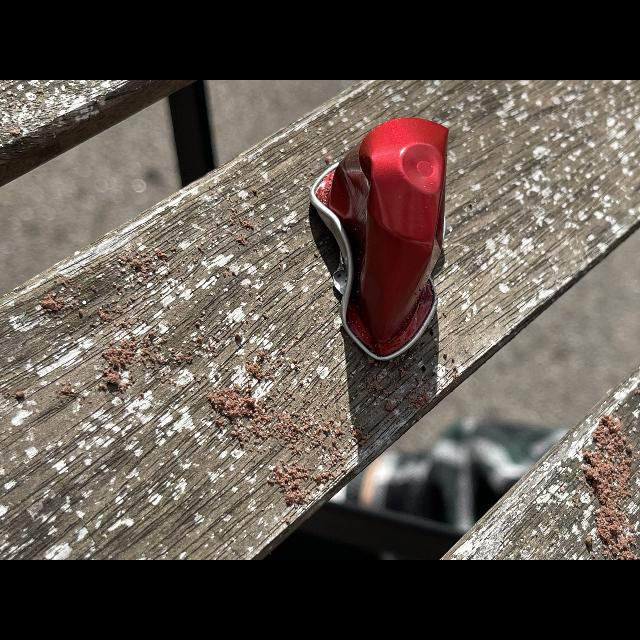damaged_capsule: (296, 102, 458, 374)
